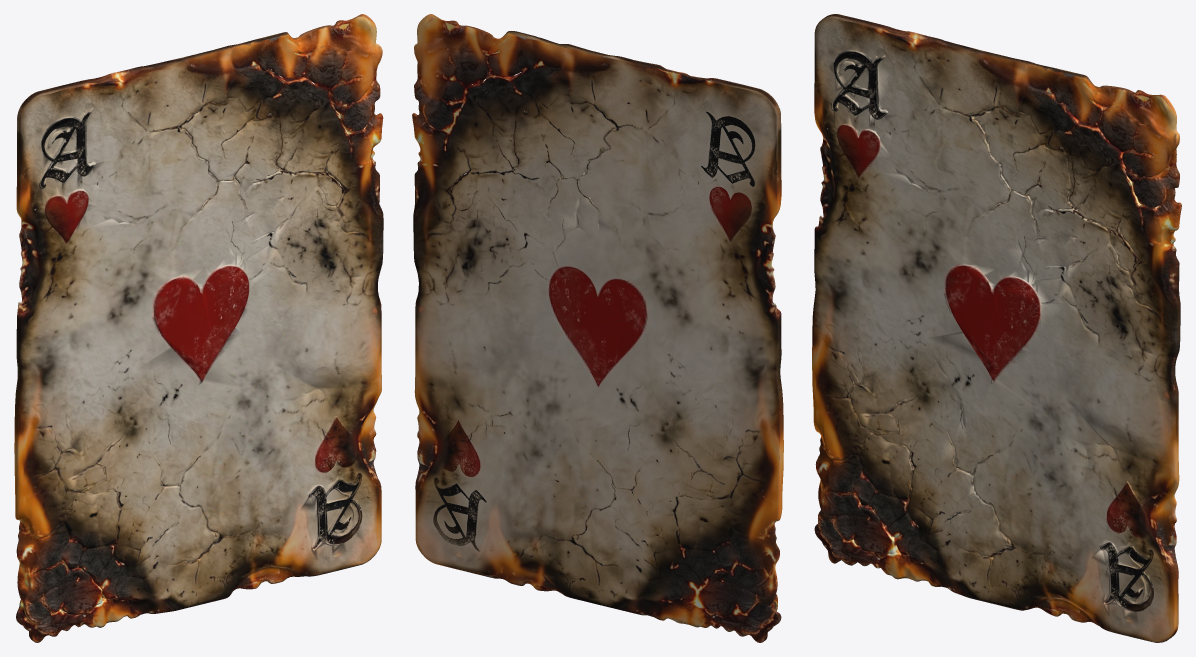
File: herzass.glb
The picture shows the model from 3 angles, left to right: view 1: azimuth 30°, elevation 25°; view 2: azimuth 150°, elevation 25°; view 3: azimuth 330°, elevation 25°; orthographic projection.
Bounding box in the file's own units: 1.33 × 1.9 × 0.0415.
Materials: 1 (1 with a texture image).
